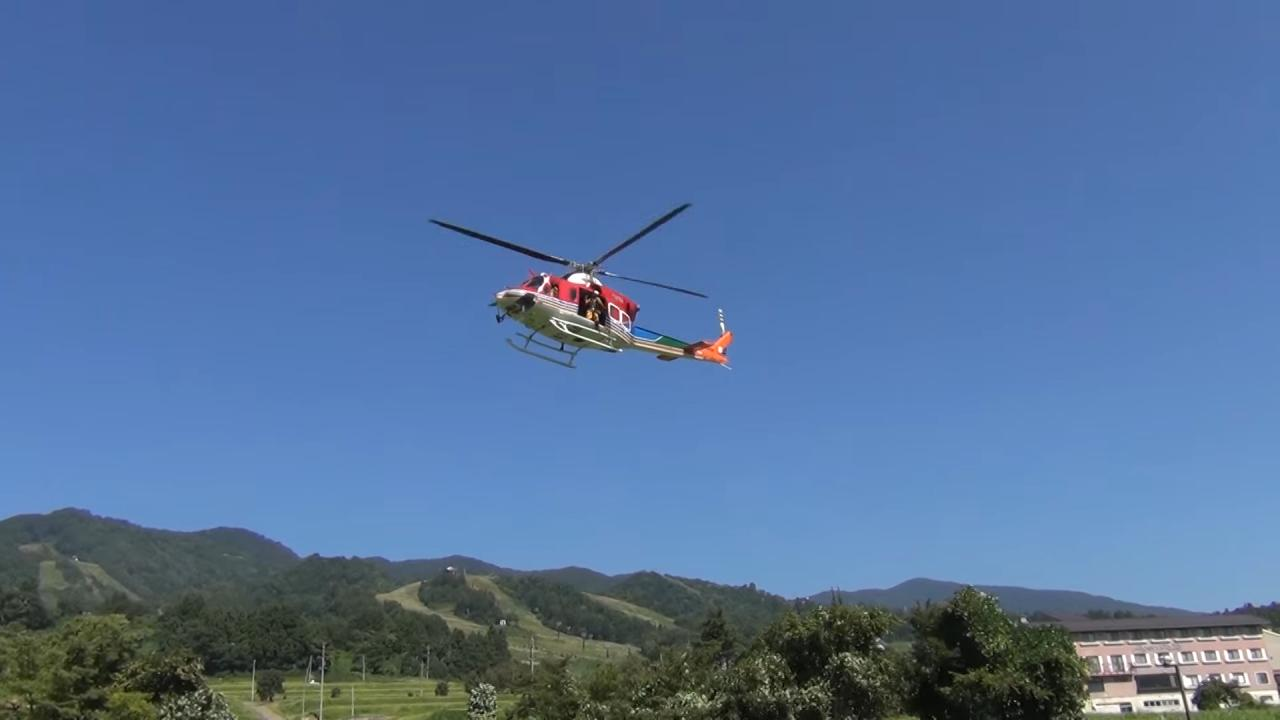Helicopter: (416, 190, 747, 381)
